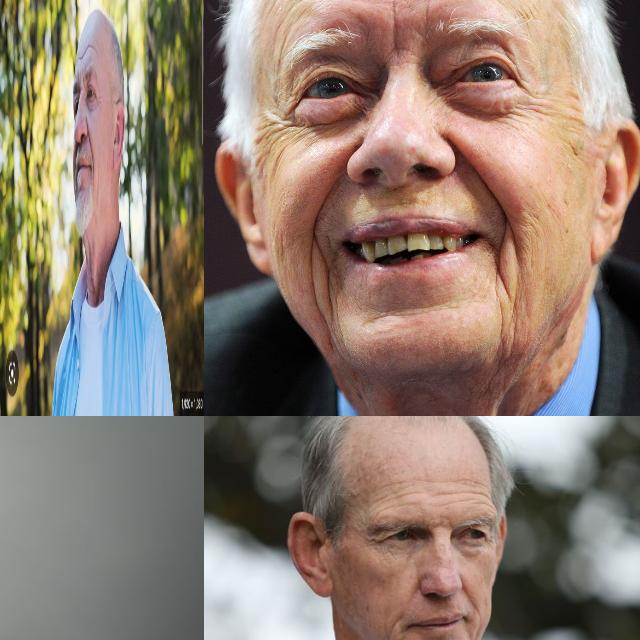chin: (312, 302, 354, 362), (366, 298, 448, 326), (494, 306, 522, 362)
crows_feet: (264, 93, 300, 147), (510, 80, 546, 126), (95, 89, 101, 104)
forehead: (438, 484, 494, 508), (374, 482, 416, 506), (86, 39, 96, 56), (78, 50, 85, 66), (97, 38, 101, 55)
frown_line: (385, 10, 409, 66), (81, 68, 85, 90)
gummy_smile: (447, 138, 507, 218), (304, 162, 342, 236), (462, 586, 482, 612), (86, 126, 92, 162)
masseter: (384, 615, 406, 640)
sad_smile: (490, 233, 524, 297), (308, 240, 344, 294)
